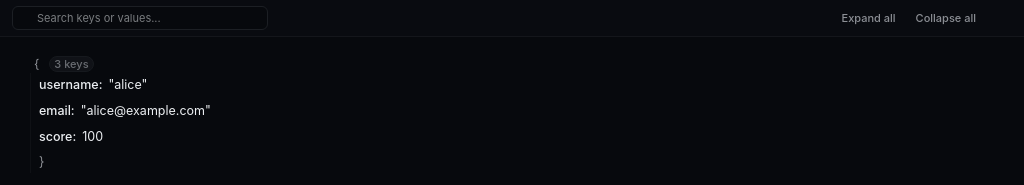
Test: JsonPreview › filters nodes based on search input
The width and height of the screenshot is (1024, 185).
Expected: the text "username:" is shown, [39, 74, 102, 95]
Expected: the text "score:" is shown, [39, 127, 76, 147]
Type "email" into the field named "Filter JSON keys and values" at point(140, 18), box [12, 6, 268, 30]
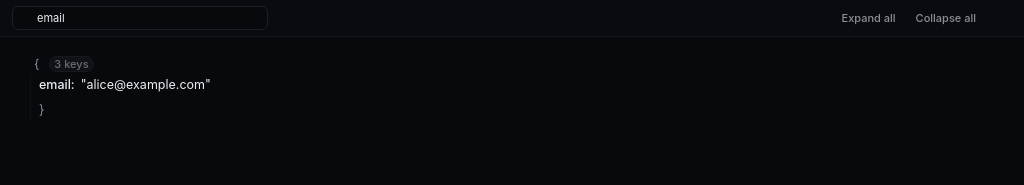
Expected: the text "email:" is shown, [39, 74, 75, 95]
Result: the text "score:" is gone
